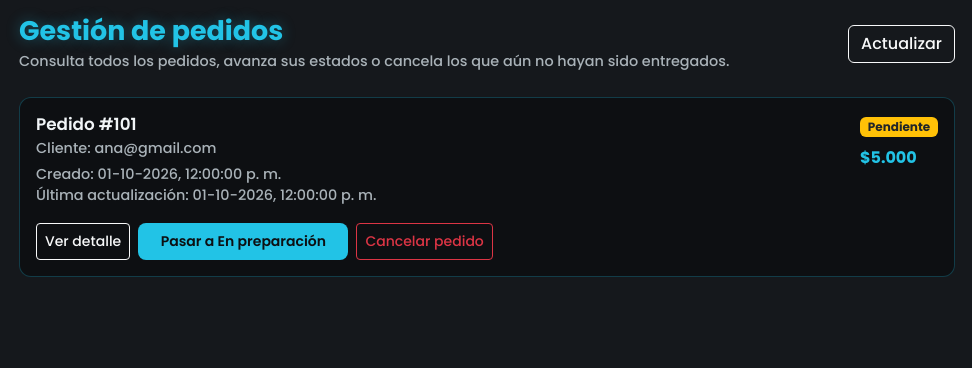
Test case: PanelPedidos › avanza el estado después de confirmar y actualiza la vista
The width and height of the screenshot is (972, 368).
Click the button "Pasar a En preparación": [243, 241] box 138,223 -> 348,260
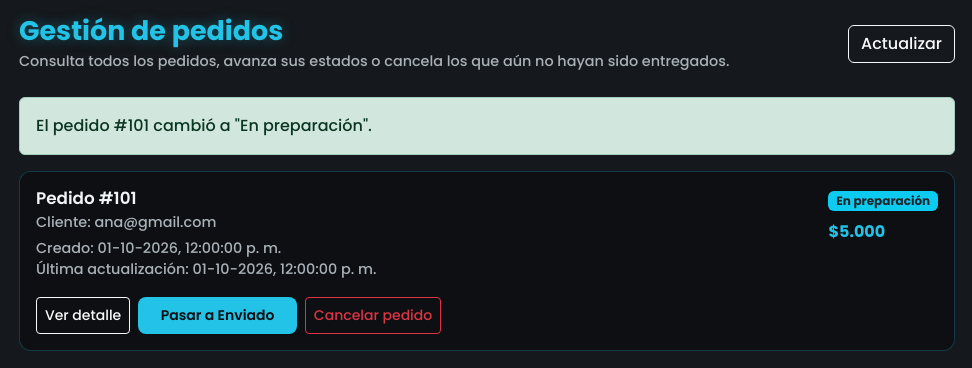
Expected: the button "Pasar a Enviado" is enabled, 138,297 -> 297,334
Expected: the message reads "El pedido #101 cambió a \"En preparación\".", 36,114 -> 372,137
Expected: the text "En preparación" is shown, 828,191 -> 938,211
